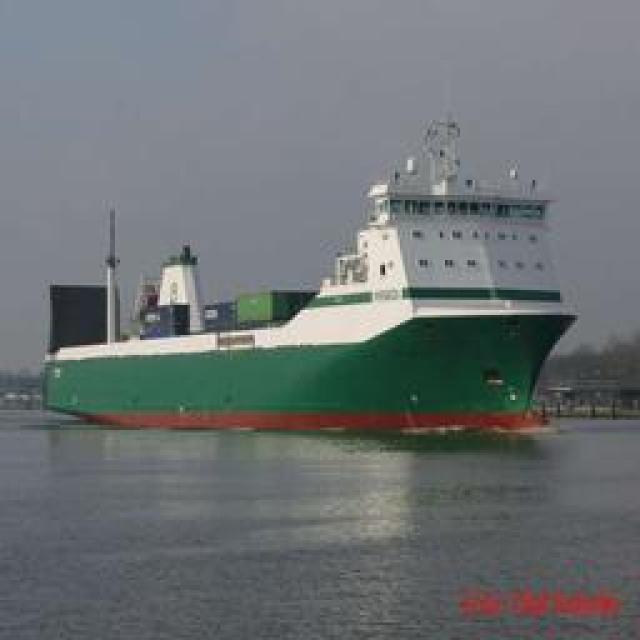ship2: (42, 120, 578, 437)
